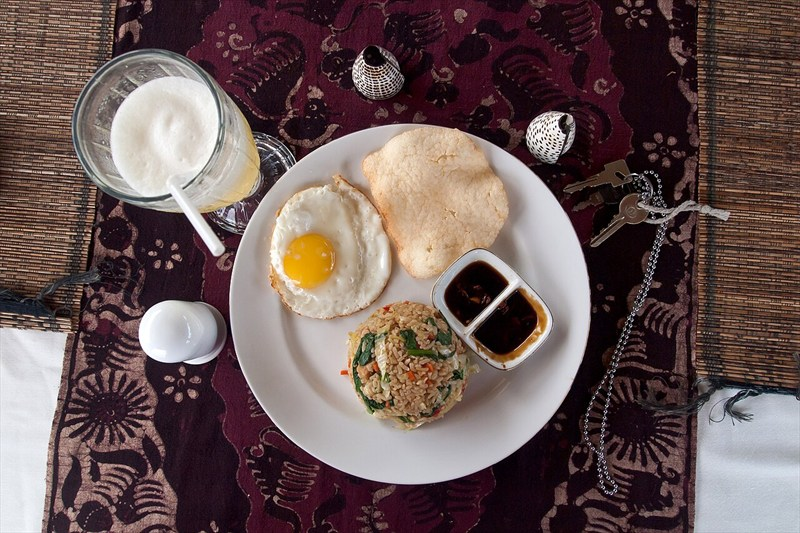Nasi Goreng: (32, 88, 608, 467)
